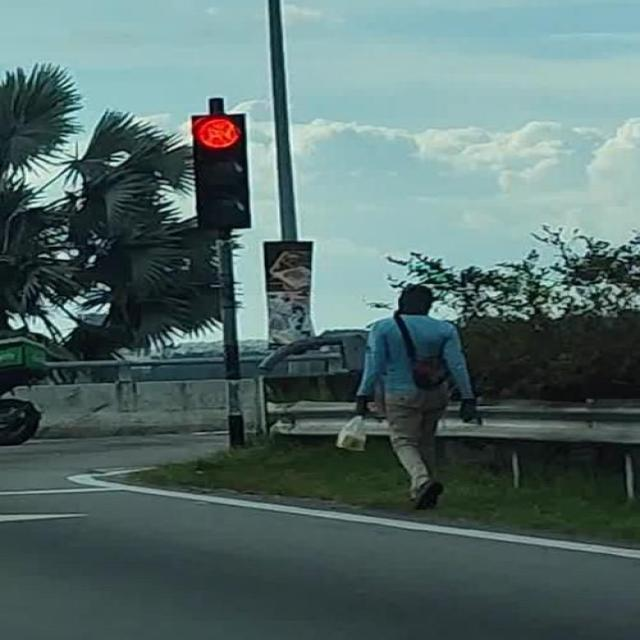red_light: (193, 112, 247, 224)
